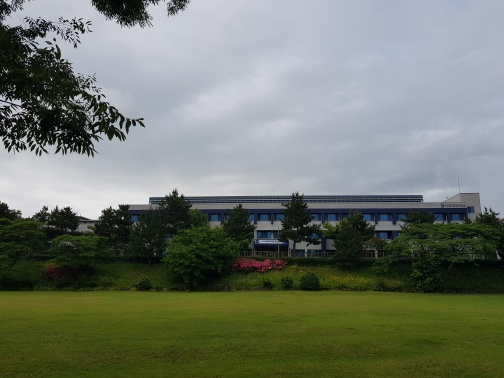College of Social Sciences: (126, 181, 488, 252)
